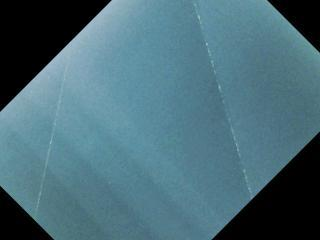crack: (191, 1, 255, 201), (32, 40, 75, 224)
